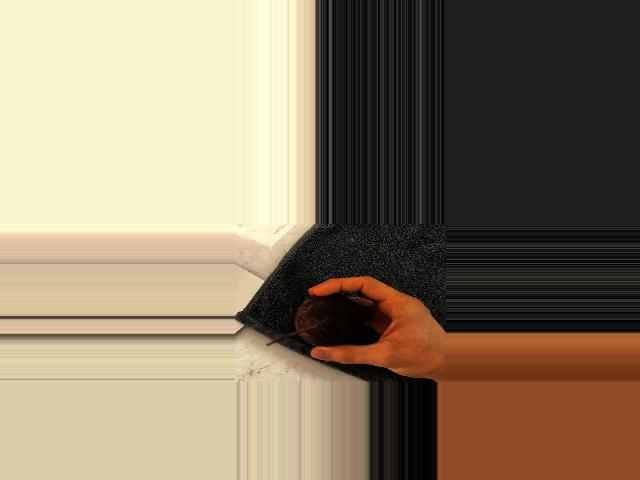beet: (265, 293, 362, 346)
